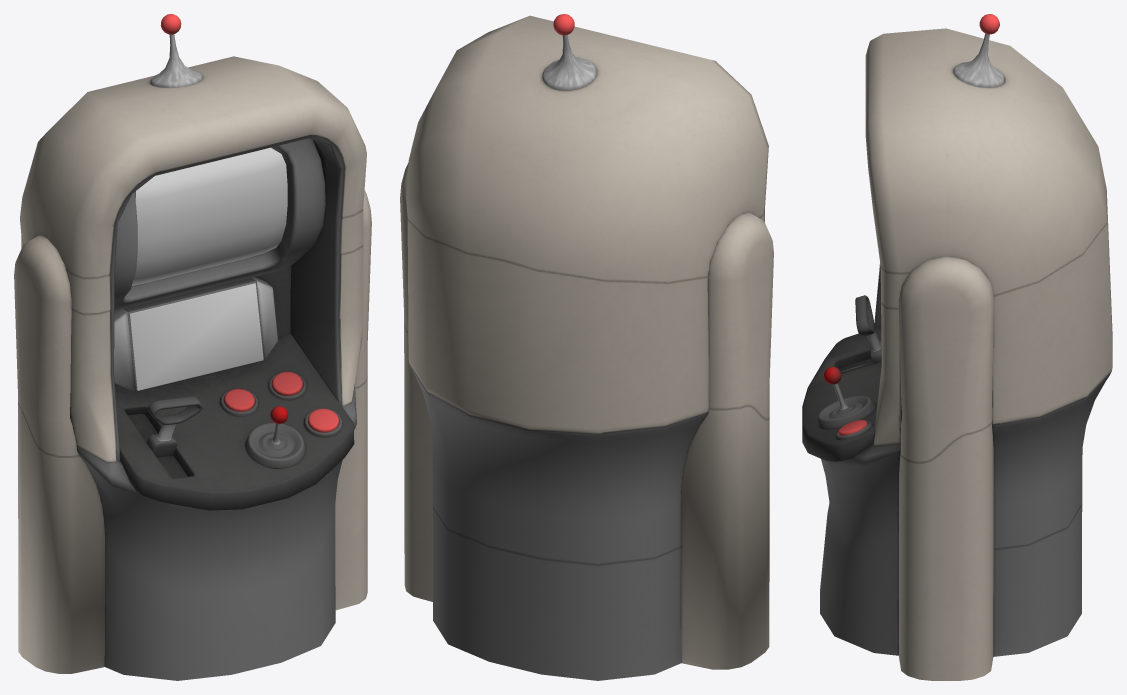
File: Arcade_machine_1.fbx
The picture shows the model from 3 angles, left to right: view 1: azimuth 30°, elevation 25°; view 2: azimuth 150°, elevation 25°; view 3: azimuth 270°, elevation 25°; orthographic projection. The views are drawn at different scales.
Parts seen in each view (by area): view 1: Arcade machine; view 2: Arcade machine; view 3: Arcade machine.
Part boxes in pixels (left/top/right/bottom): Arcade machine: left=14, top=14, right=371, bottom=680; Arcade machine: left=400, top=14, right=773, bottom=680; Arcade machine: left=802, top=14, right=1112, bottom=680.
Bounding box in the file's own units: 99.96 × 172 × 82.66.
